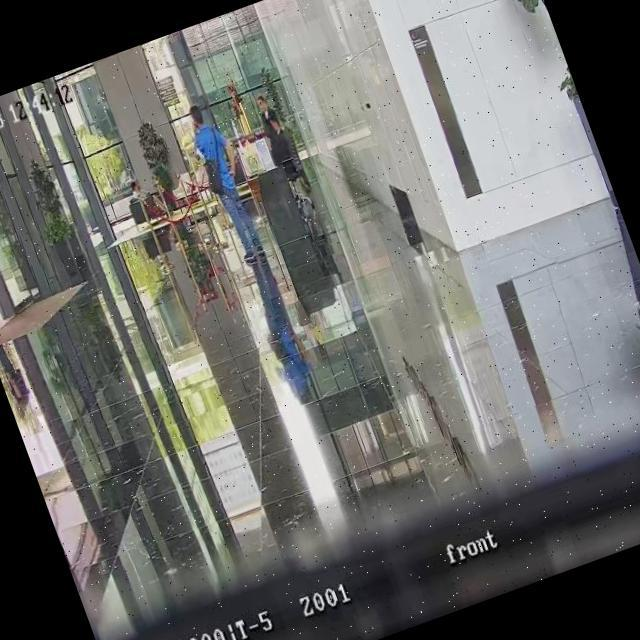person: (178, 97, 271, 266), (130, 171, 177, 227), (262, 116, 296, 176), (268, 112, 294, 159), (255, 92, 278, 121)
